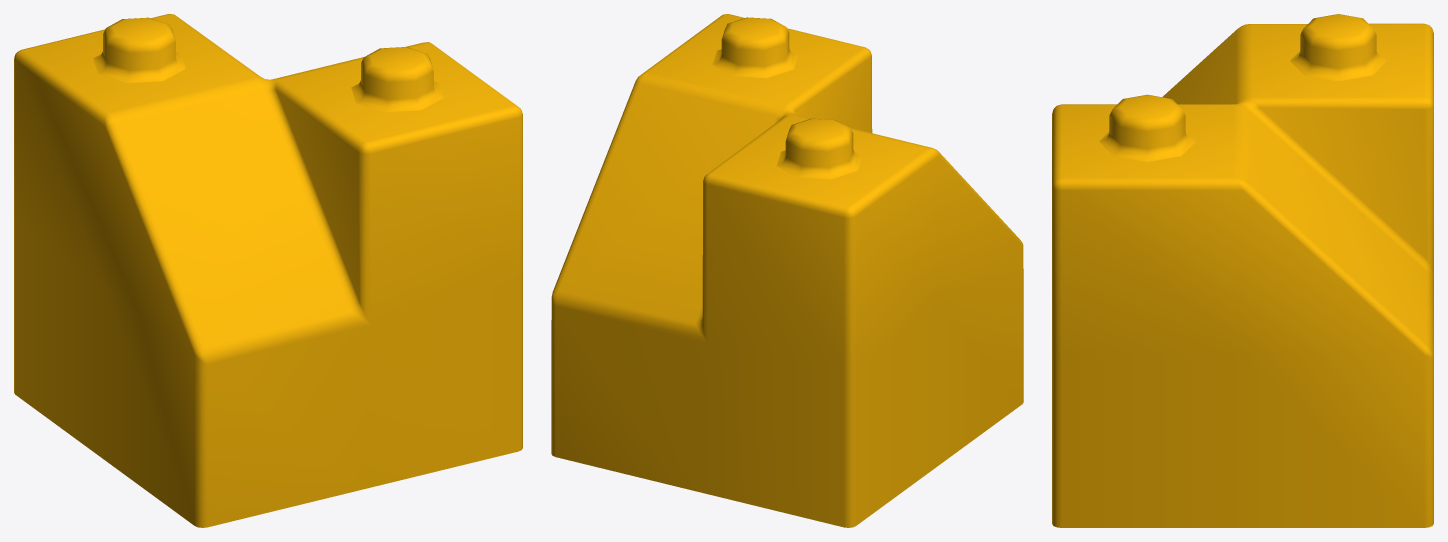
File: Opposite_Bevel.fbx
The picture shows the model from 3 angles, left to right: view 1: azimuth 30°, elevation 25°; view 2: azimuth 150°, elevation 25°; view 3: azimuth 270°, elevation 25°; orthographic projection. The views are drawn at different scales.
Visible parts, largest first — view 1: Opposite_Bevel, Knobs.033; view 2: Opposite_Bevel, Knobs.033; view 3: Opposite_Bevel, Knobs.033.
Boxes of the visible parts, bbox=[...] form: Opposite_Bevel: bbox=[14, 14, 522, 527]; Knobs.033: bbox=[93, 17, 443, 112]; Opposite_Bevel: bbox=[551, 14, 1023, 527]; Knobs.033: bbox=[712, 17, 862, 179]; Opposite_Bevel: bbox=[1052, 23, 1433, 527]; Knobs.033: bbox=[1099, 14, 1386, 161].
Size of the model in its own units: 1 by 1.1 by 1.
